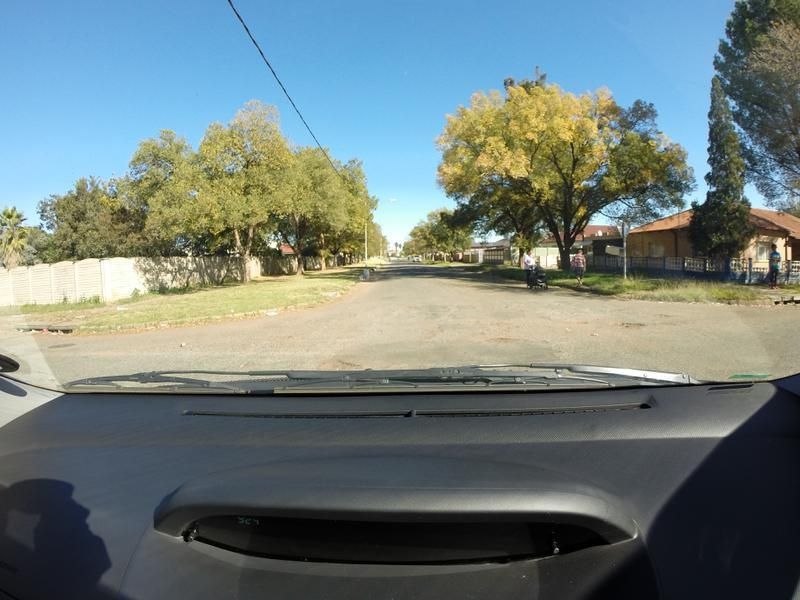pothole: (316, 349, 366, 368), (482, 338, 536, 345), (614, 320, 645, 329), (657, 312, 670, 318)
